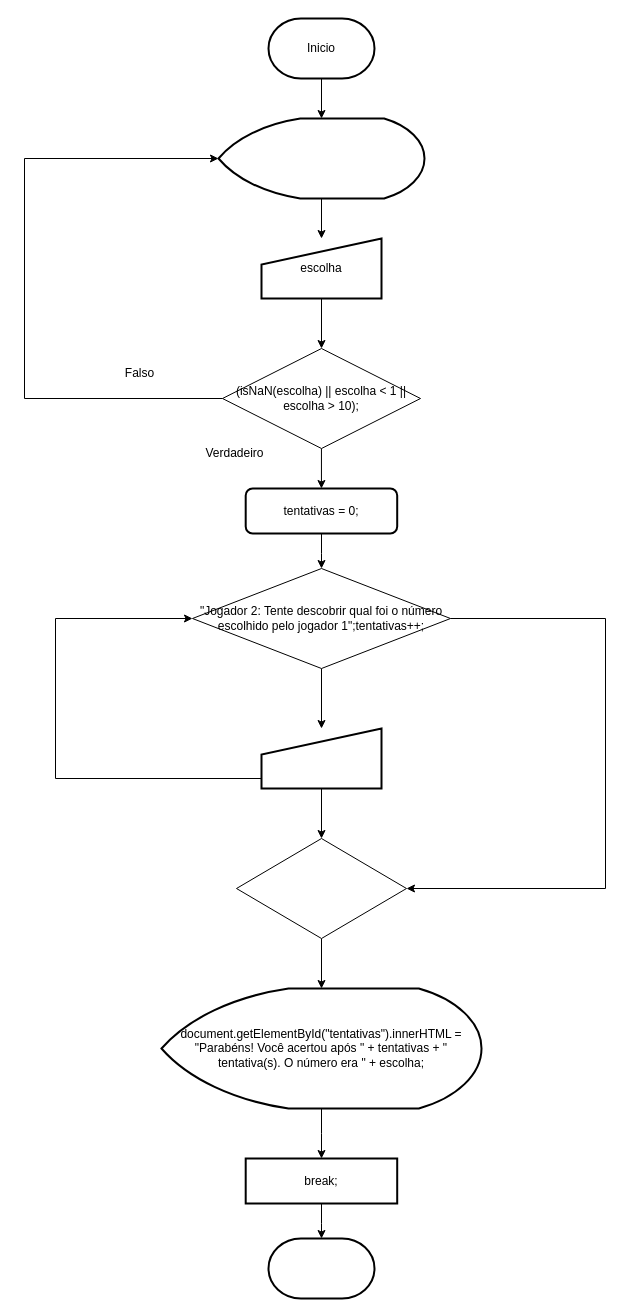
Some shapes in this 631 by 1316 pixel diagram are drawn without their labels. Each missing label, with the centre of its shape:
"Jogador 1: Escolha um número entre 1 e 10": point 321,158
adivinha: point 321,758
adivinha === escolha: point 321,888
Fim: point 321,1268
